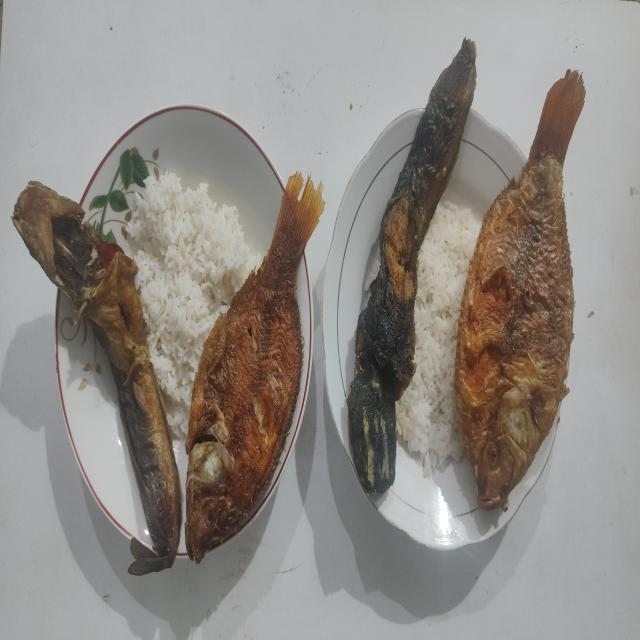ikan_mujair: (454, 70, 586, 510), (185, 173, 325, 563)
nasi_putih: (125, 172, 263, 440), (396, 193, 485, 477)
